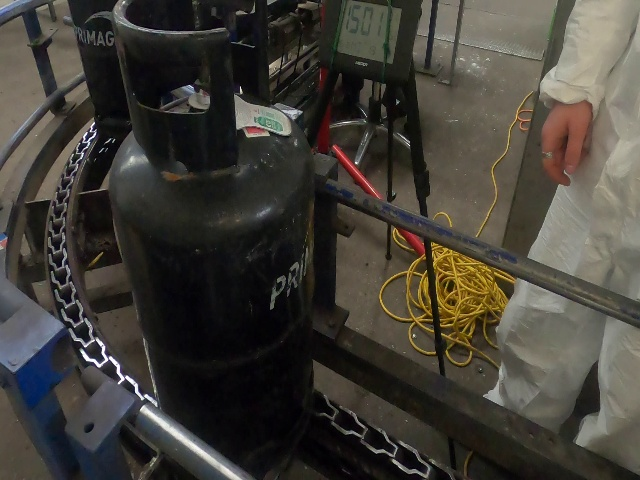gas_bottle: (0, 0, 629, 477)
